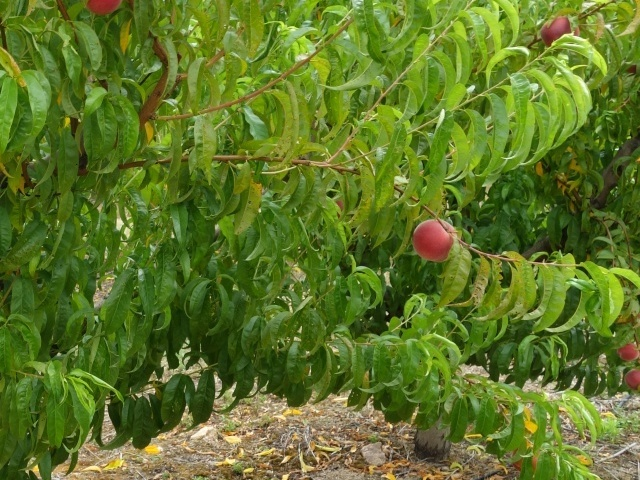peach: (409, 211, 462, 269), (537, 9, 582, 52), (613, 336, 639, 366), (618, 362, 639, 398)
